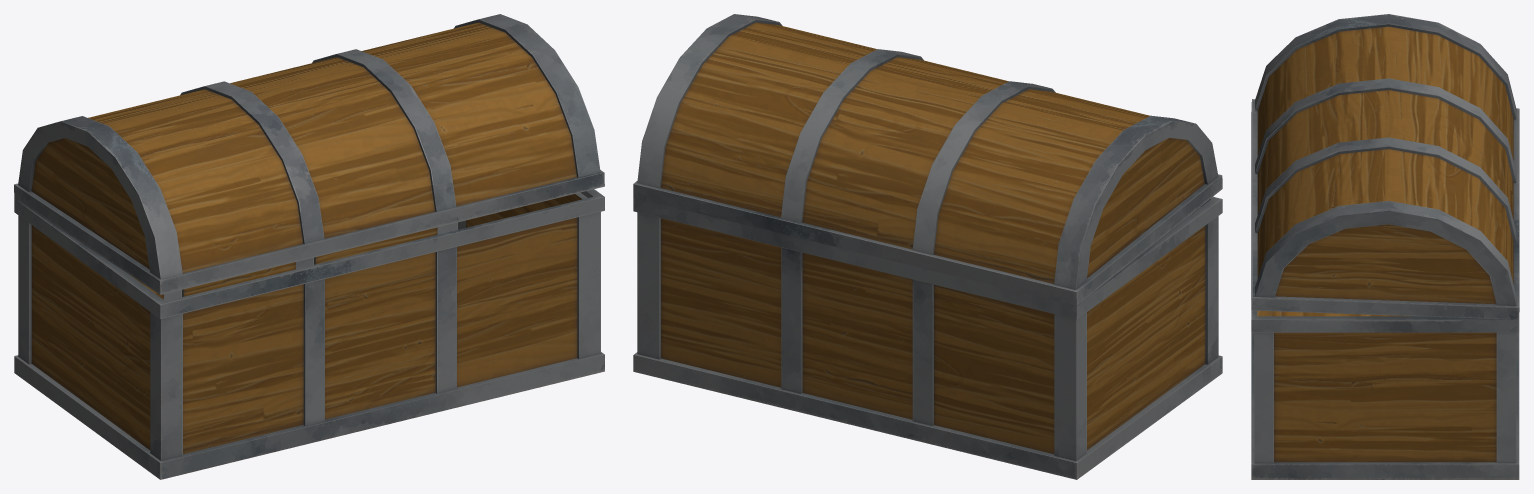
The model's file is Prop_Treasure_Box.fbx.
3 views of the same model, side by side, from view 1: azimuth 30°, elevation 25°; view 2: azimuth 150°, elevation 25°; view 3: azimuth 270°, elevation 25° (orthographic). The views are drawn at different scales.
Parts seen in each view (by area): view 1: Treasure_Box; view 2: Treasure_Box; view 3: Treasure_Box.
Boxes of the visible parts, <box> form: Treasure_Box: <box>14,14,604,479</box>; Treasure_Box: <box>633,14,1222,479</box>; Treasure_Box: <box>1251,14,1519,479</box>.
Bounding box in the file's own units: 80.86 × 50.88 × 46.13.
1 material, 1 textured.
